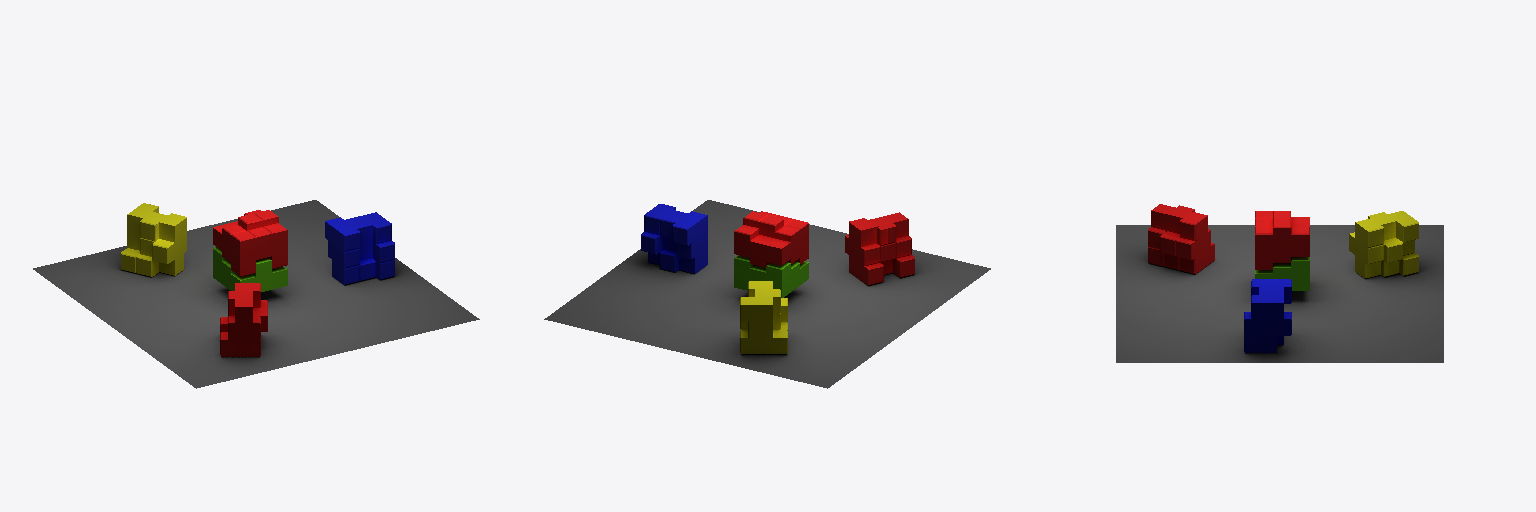
3 renders of one model, left to right at view 1: azimuth 30°, elevation 25°; view 2: azimuth 150°, elevation 25°; view 3: azimuth 270°, elevation 25°, orthographic.
Parts seen in each view (by area): view 1: object_3.002; view 2: object_3.002; view 3: object_3.002.
Part boxes in pixels (x1,y1,x2,y2): object_3.002: (33, 200, 479, 388); object_3.002: (544, 200, 990, 388); object_3.002: (1116, 204, 1443, 362).
Bounding box in the file's own units: 89.3 × 22.91 × 89.3.
2 materials, 2 textured.